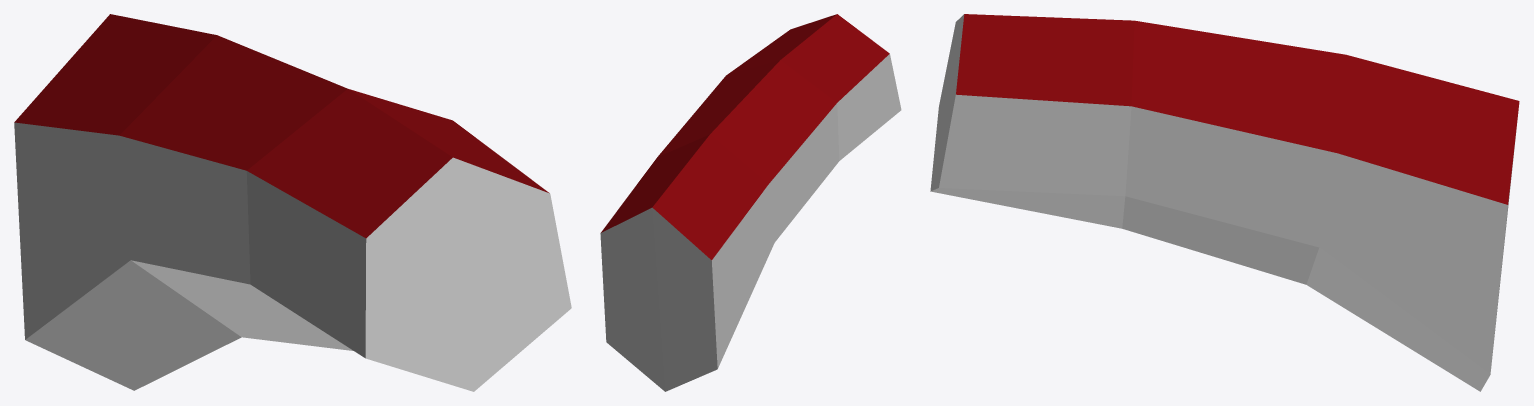
Rendered from neck.fbx.
3 views of the same model, side by side, from view 1: azimuth 30°, elevation 25°; view 2: azimuth 150°, elevation 25°; view 3: azimuth 270°, elevation 25° (orthographic). The views are drawn at different scales.
Visible parts, largest first — view 1: Neck; view 2: Neck; view 3: Neck.
Boxes of the visible parts, x1,y1,x2,y2 form: Neck: [14, 14, 571, 391]; Neck: [600, 14, 901, 391]; Neck: [930, 14, 1519, 391].
Size of the model in its own units: 178 by 384 by 543.
